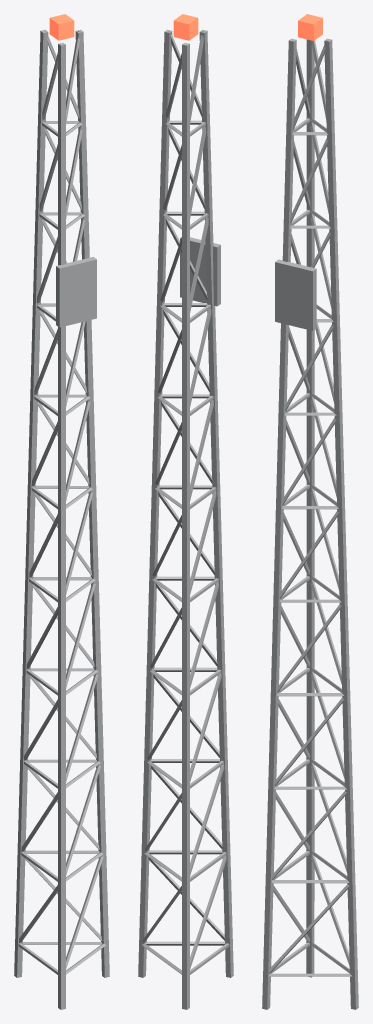
Rendered from antenna-mast.glb.
3 views of the same model, side by side, from view 1: azimuth 30°, elevation 25°; view 2: azimuth 150°, elevation 25°; view 3: azimuth 330°, elevation 25° (orthographic).
Parts seen in each view (by area): view 1: antenna-mast, antenna-mast-beacon; view 2: antenna-mast, antenna-mast-beacon; view 3: antenna-mast, antenna-mast-beacon.
Boxes of the visible parts, box(x1,y1,x2,y2) form: antenna-mast: box(14, 29, 109, 1009); antenna-mast-beacon: box(49, 14, 74, 40); antenna-mast: box(138, 29, 233, 1009); antenna-mast-beacon: box(173, 14, 198, 40); antenna-mast: box(262, 38, 358, 1009); antenna-mast-beacon: box(298, 14, 322, 40).
Bounding box in the file's own units: 1.13 × 14.75 × 1.29.
